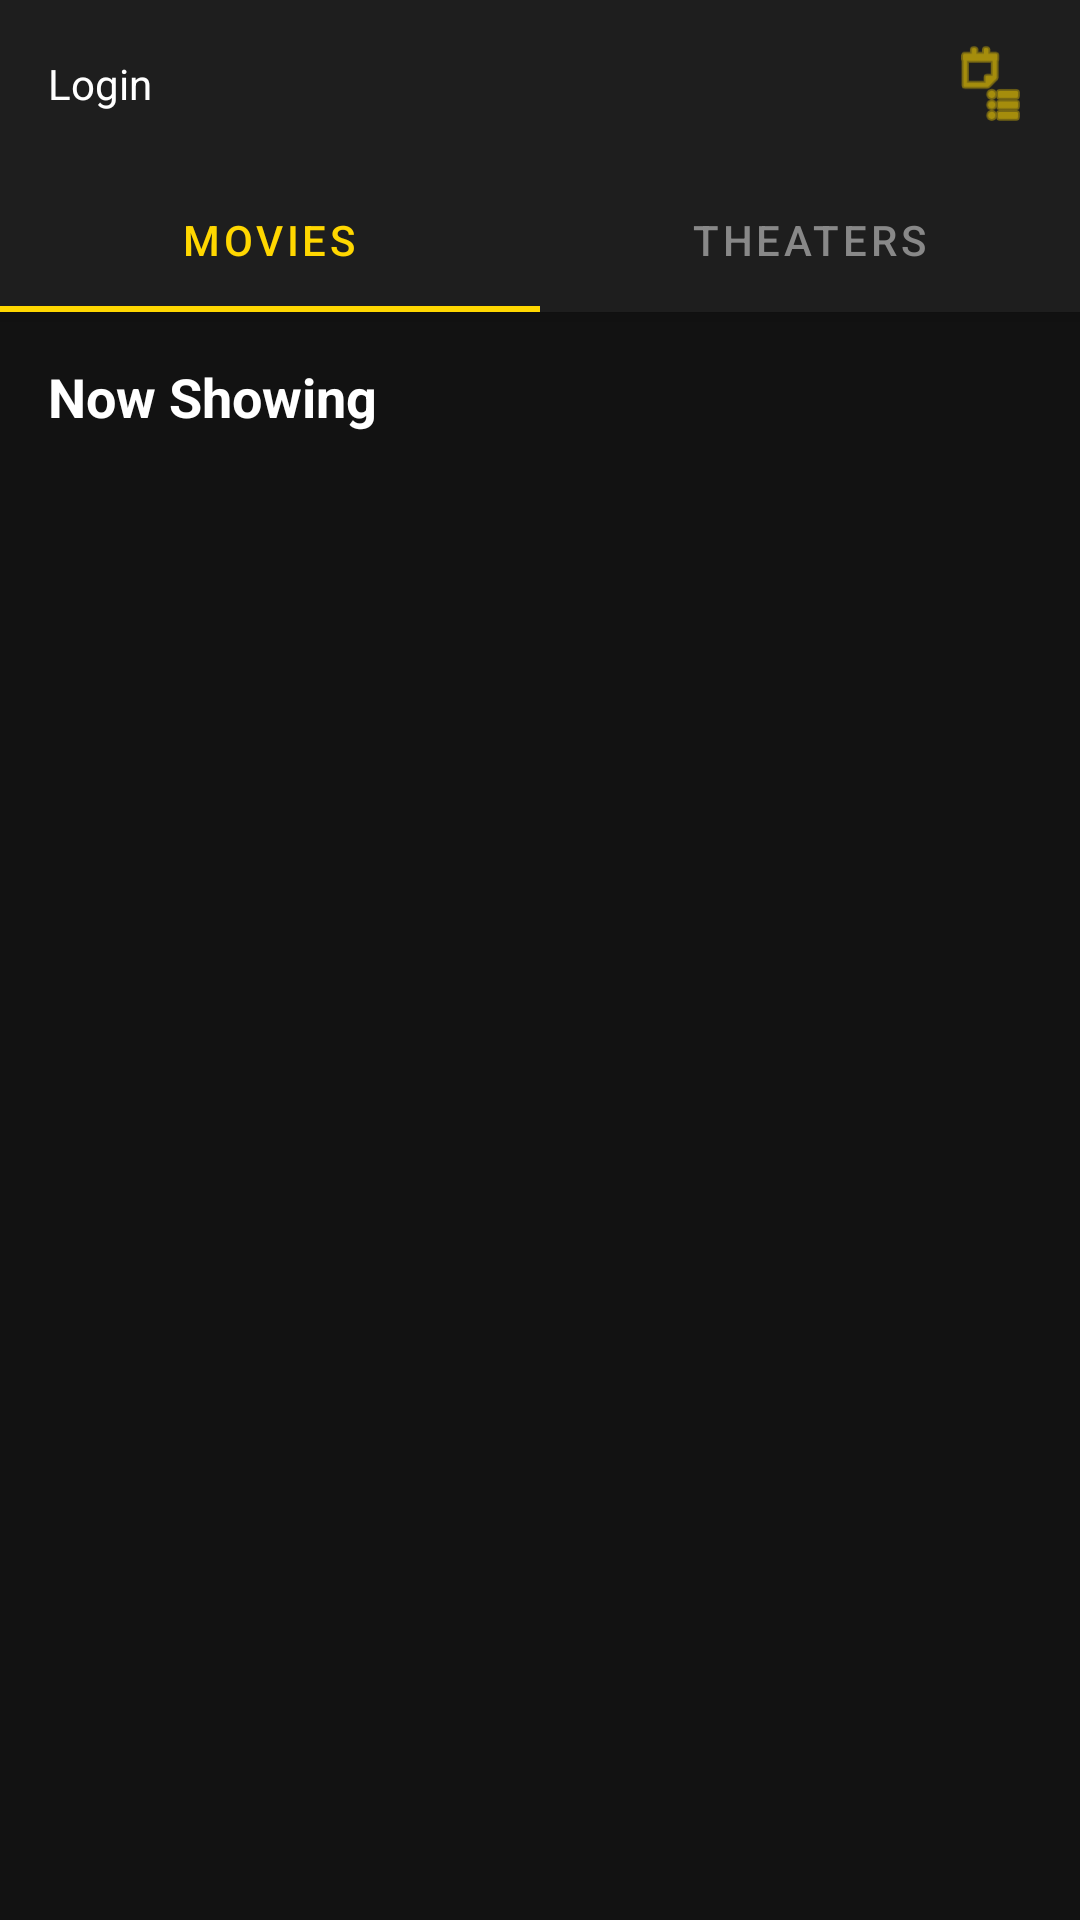

Icon bounding boxes for this 1080px x 1920px phone screenshot, format (x1, y1, x2, y2):
agenda: (961, 46, 1020, 121)
